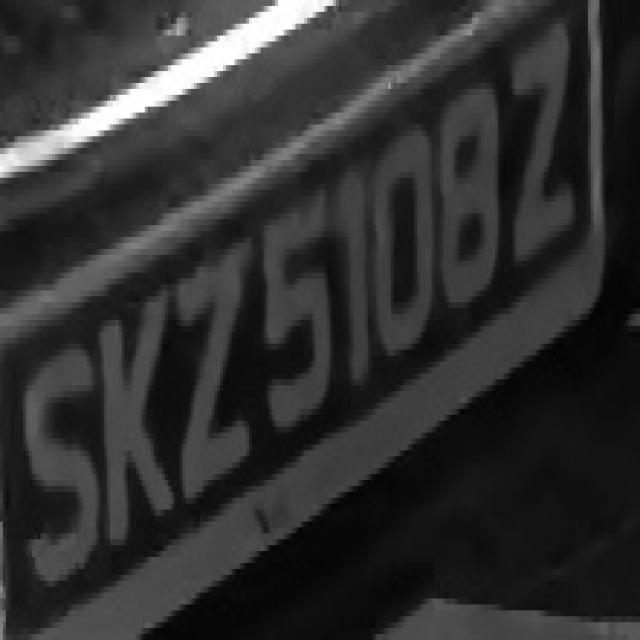0: (368, 136, 446, 356)
1: (324, 142, 374, 409)
5: (252, 207, 333, 438)
8: (437, 71, 504, 326)
K: (90, 296, 171, 557)
S: (15, 338, 99, 604)
Z: (501, 12, 591, 261), (168, 243, 252, 498)
